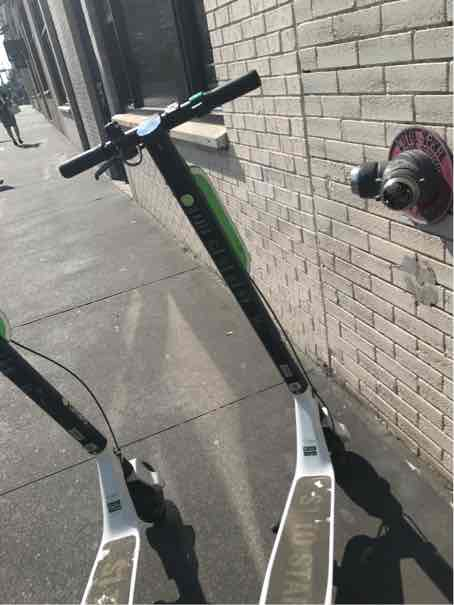scooter: (53, 93, 349, 605)
